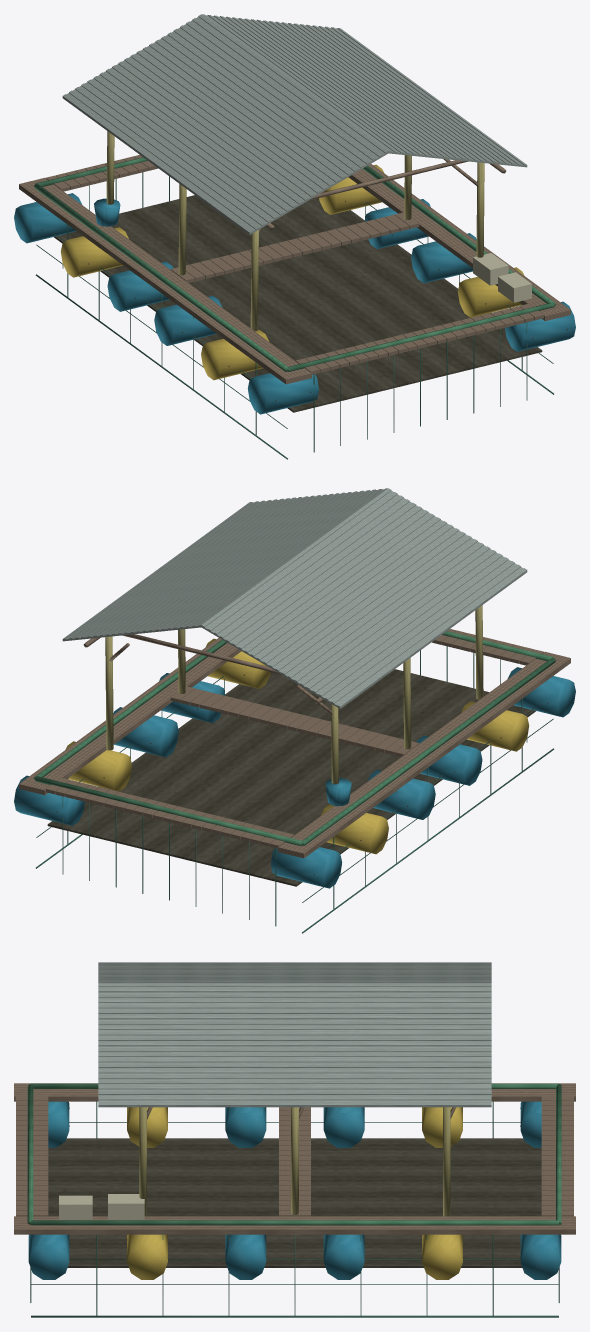
The model's file is bung-raft-2-grey.glb.
3 views of the same model, one above another, from view 1: azimuth 30°, elevation 25°; view 2: azimuth 150°, elevation 25°; view 3: azimuth 270°, elevation 25° (orthographic). The views are drawn at different scales.
Parts seen in each view (by area): view 1: bung-raft-2-grey; view 2: bung-raft-2-grey; view 3: bung-raft-2-grey.
Boxes of the visible parts, bbox=[...] form: bung-raft-2-grey: bbox=[14, 14, 575, 459]; bung-raft-2-grey: bbox=[14, 488, 575, 933]; bung-raft-2-grey: bbox=[14, 962, 575, 1317].
Size of the model in its own units: 5.34 by 4.18 by 8.
Materials: 1 (1 with a texture image).
